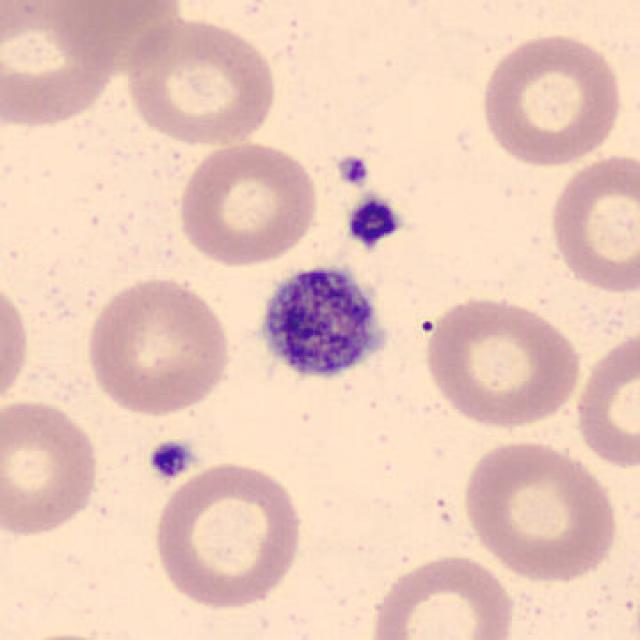Platelets: (249, 256, 391, 388), (343, 194, 404, 249), (144, 438, 196, 482), (332, 152, 373, 190)
RBC: (148, 456, 308, 612), (459, 436, 622, 584), (419, 291, 585, 432), (82, 273, 236, 418), (121, 12, 281, 148), (476, 28, 626, 169), (174, 138, 322, 268), (0, 0, 126, 132), (0, 395, 103, 541), (544, 150, 640, 296), (365, 552, 519, 640), (570, 326, 640, 472), (25, 0, 187, 60), (0, 273, 32, 413), (9, 626, 146, 640)
